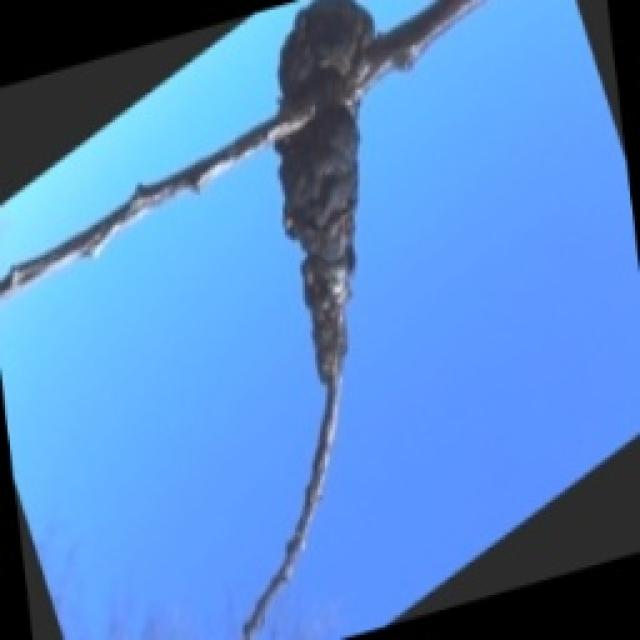Black_knot: (0, 0, 638, 638), (265, 0, 377, 380)
